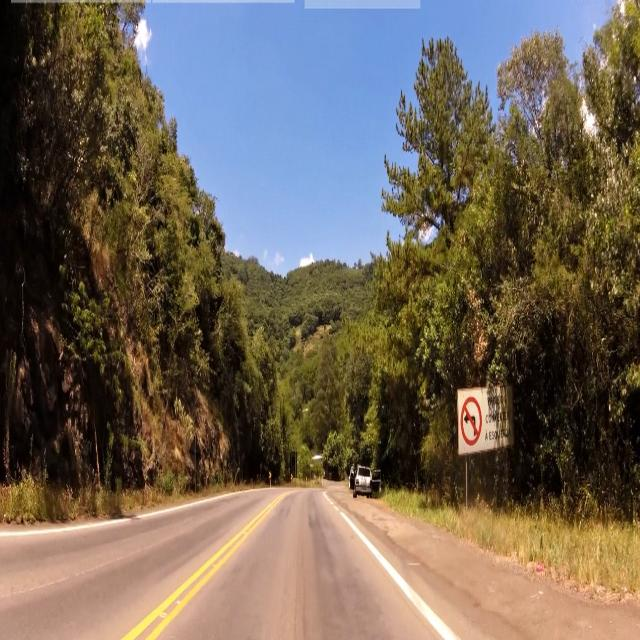R-4a: (461, 393, 483, 444)
